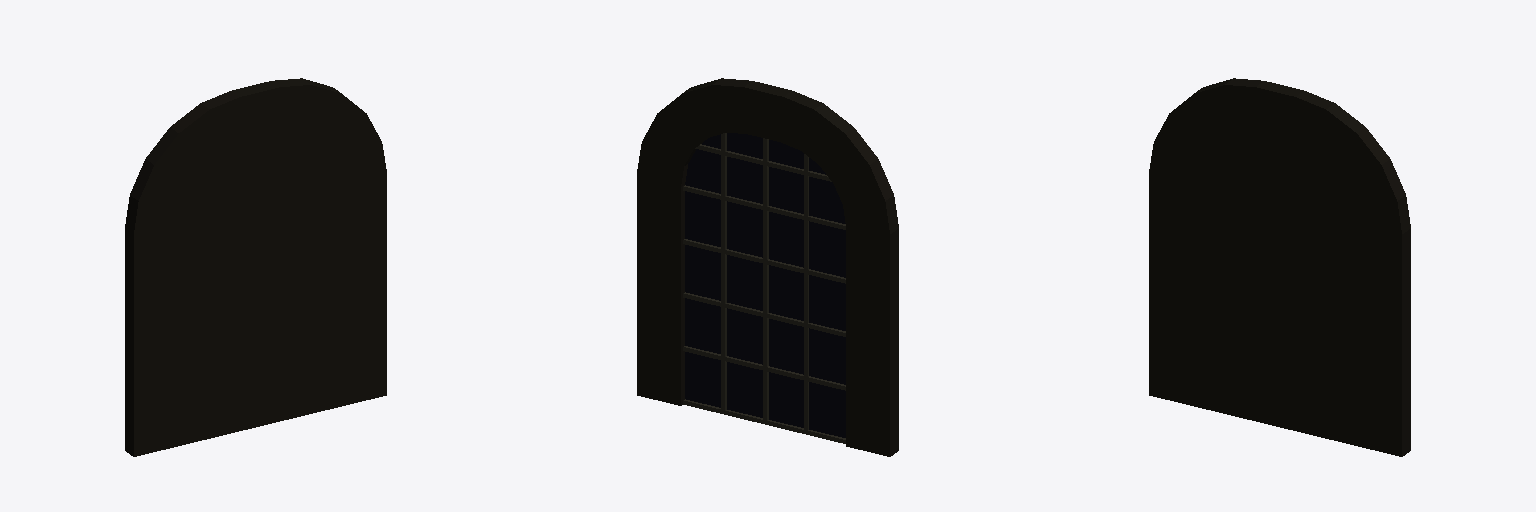
The model's file is SM_WindowBig_02.obj.
The picture shows the model from 3 angles: view 1: azimuth 30°, elevation 25°; view 2: azimuth 150°, elevation 25°; view 3: azimuth 330°, elevation 25°; orthographic projection.
Parts seen in each view (by area): view 1: SM_WindowBig:SM_WindowBig1; view 2: SM_WindowBig:SM_WindowBig1; view 3: SM_WindowBig:SM_WindowBig1.
Part boxes in pixels (x1,y1,x2,y2): SM_WindowBig:SM_WindowBig1: (125,78,386,456); SM_WindowBig:SM_WindowBig1: (637,78,898,456); SM_WindowBig:SM_WindowBig1: (1149,78,1410,456).
Size of the model in its own units: 4.6 by 5.8 by 0.2784.